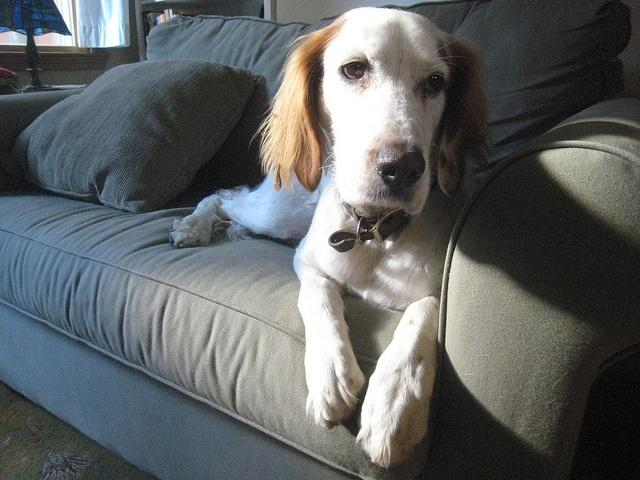dog: (172, 8, 485, 466)
